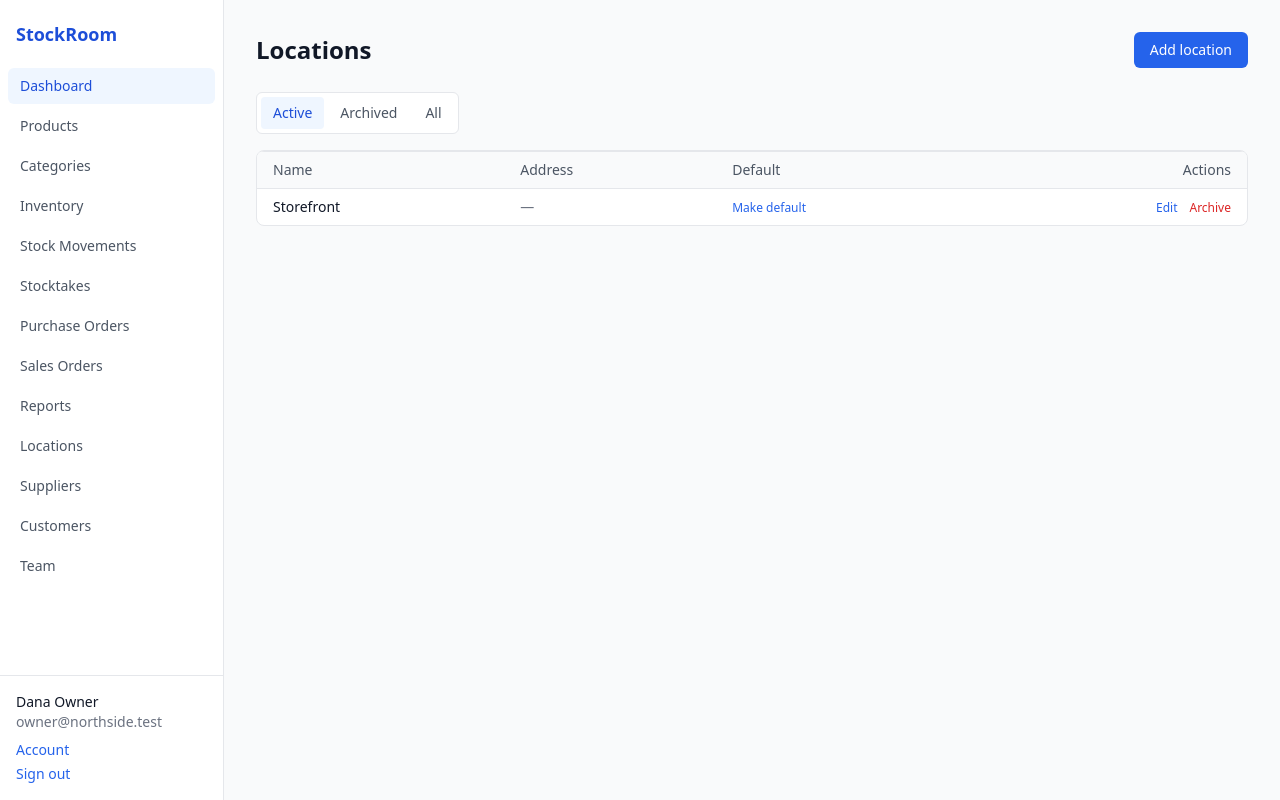
Test case: LocationsPage archive › archives on confirm and refreshes the list
expect the text "Storefront" is shown: met, box [257,188,504,225]
Click the button "Archive": [1210, 208] box [1190,200,1231,216]
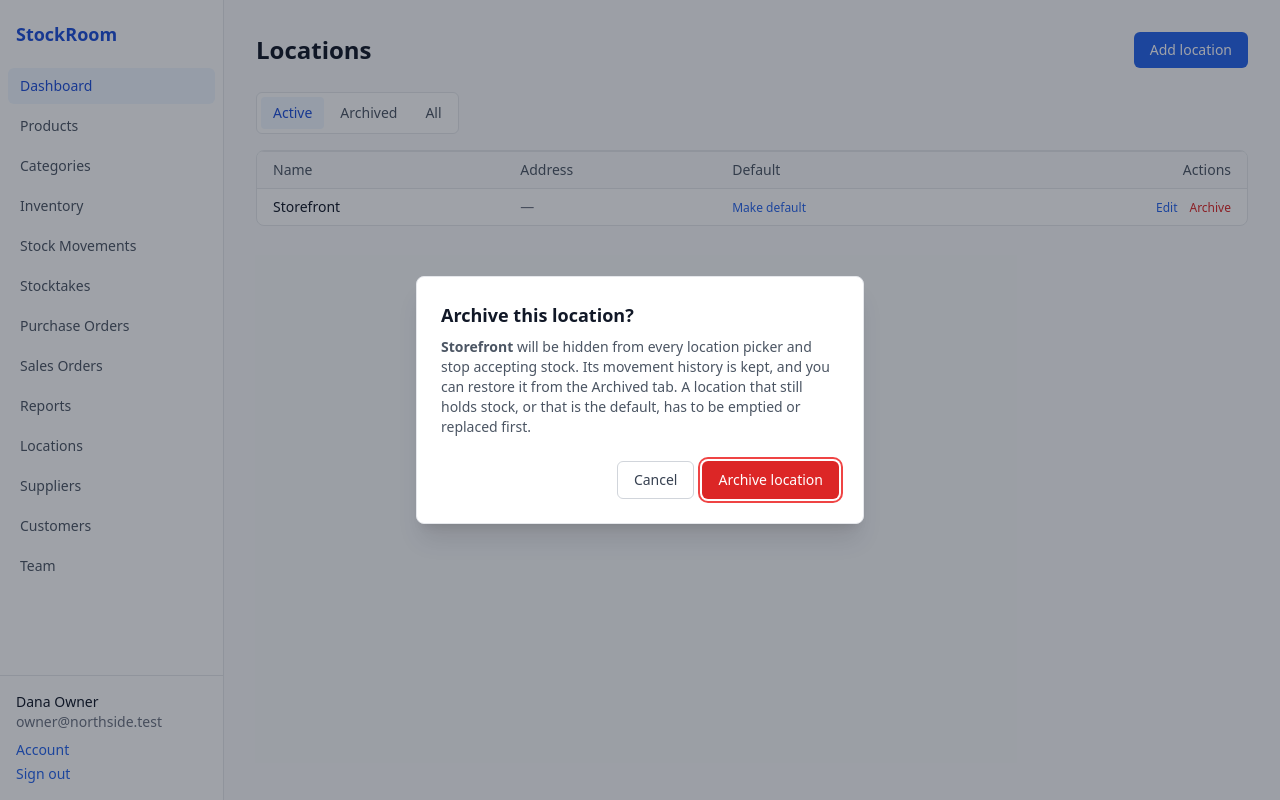
Click the button "Archive location": [771, 480] box [702,461,839,499]
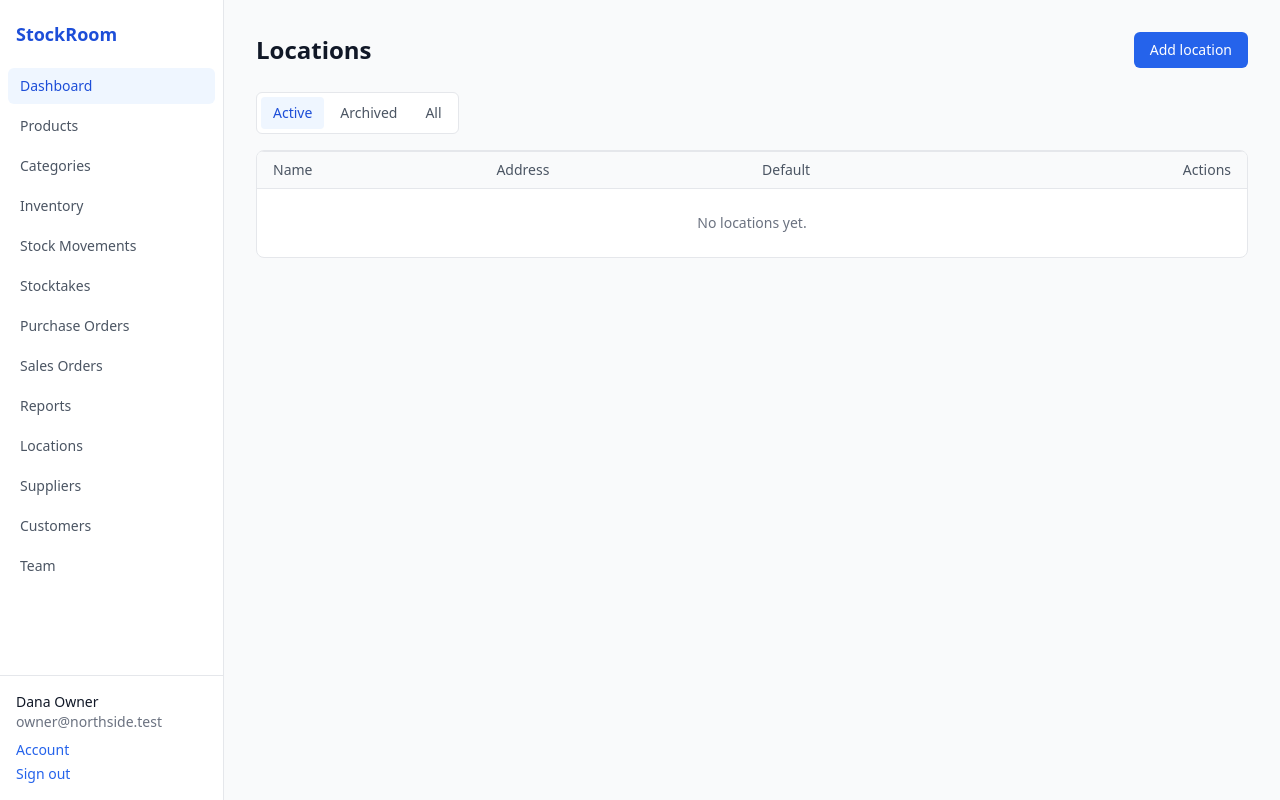
expect the text "No locations yet." is shown: met, box [257,188,1247,257]
